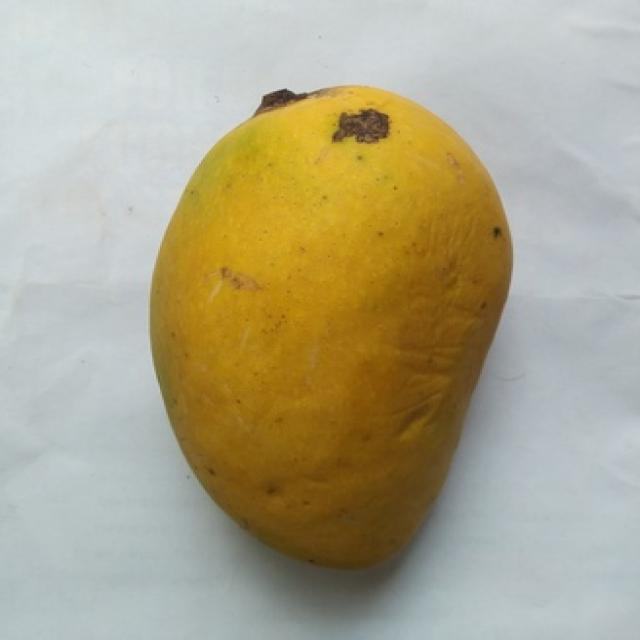Mango: (152, 86, 509, 565)
